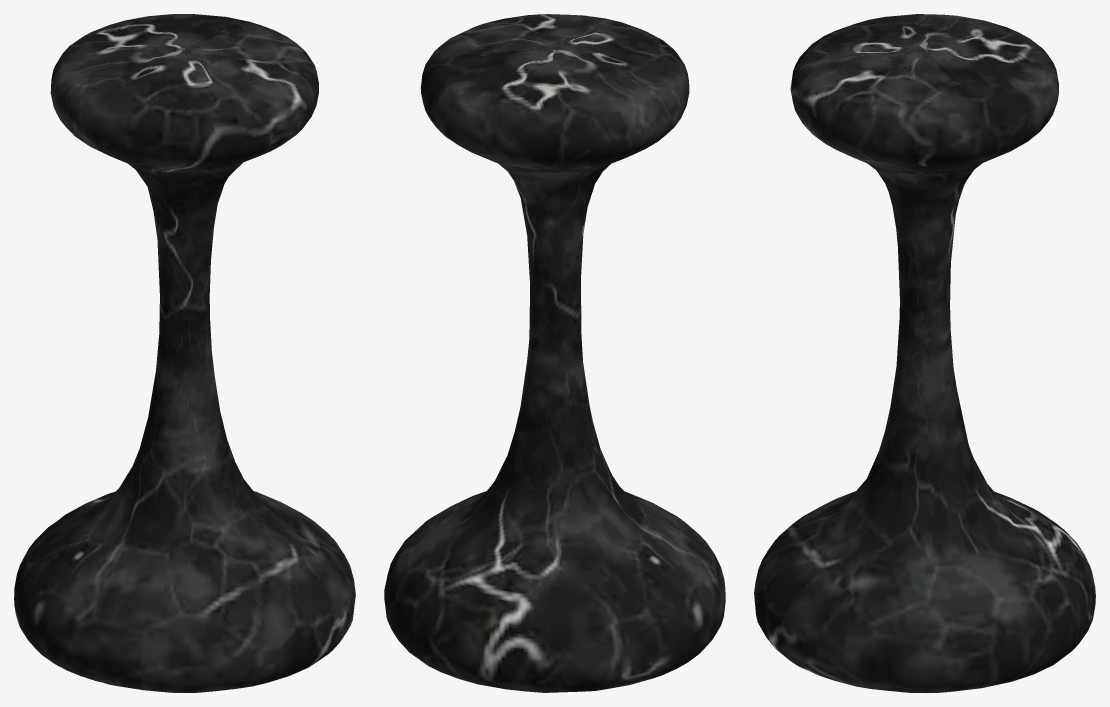
The model's file is Serpentina_rook_black.glb.
The picture shows the model from 3 angles, left to right: view 1: azimuth 30°, elevation 25°; view 2: azimuth 150°, elevation 25°; view 3: azimuth 270°, elevation 25°; orthographic projection.
Visible parts, largest first — view 1: Serpentina_rook_black; view 2: Serpentina_rook_black; view 3: Serpentina_rook_black.
Part boxes in pixels (bbox=[...]): Serpentina_rook_black: bbox=[14, 14, 355, 692]; Serpentina_rook_black: bbox=[384, 14, 725, 692]; Serpentina_rook_black: bbox=[754, 14, 1095, 692].
Bounding box in the file's own units: 0.0383 × 0.0716 × 0.0384.
Materials: 1 (1 with a texture image).
